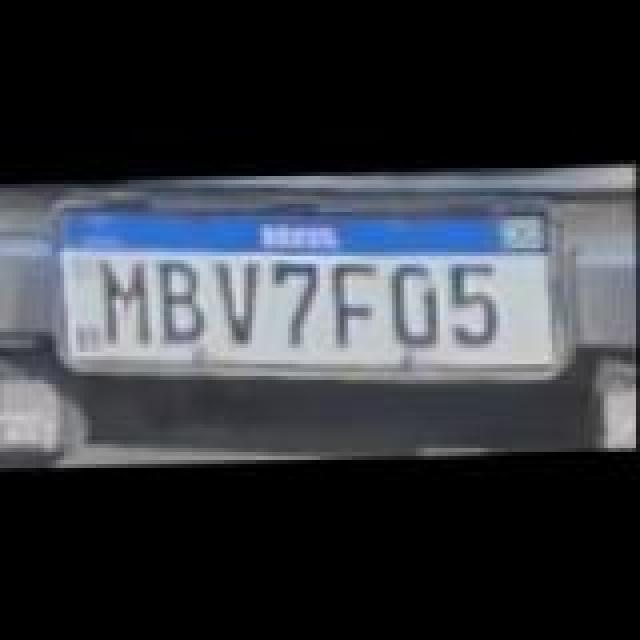5: (442, 262, 506, 346)
7: (270, 258, 334, 342)
B: (152, 254, 212, 338)
D: (386, 260, 450, 344)
F: (326, 260, 390, 348)
M: (94, 254, 158, 342)
V: (208, 258, 268, 342)
